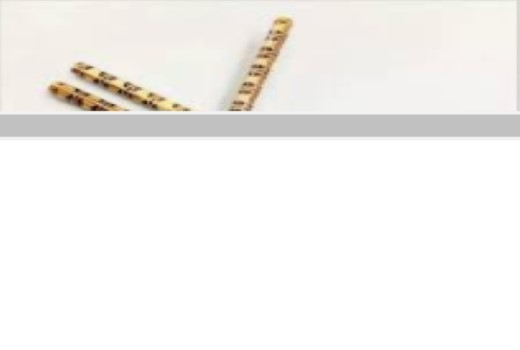baston_e: (86, 59, 207, 102), (228, 31, 292, 103)
baston_v: (146, 99, 193, 117), (89, 100, 132, 119), (271, 7, 298, 35), (227, 96, 252, 124), (66, 52, 89, 80), (44, 74, 68, 98)
